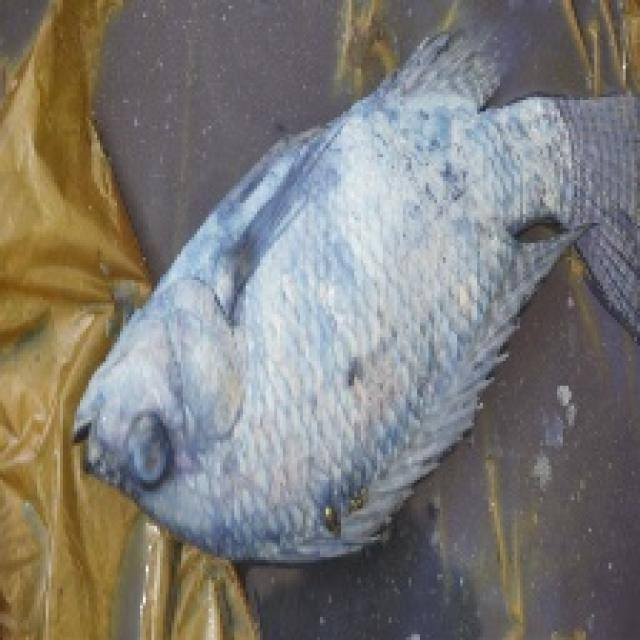Non-Fresh: (62, 96, 599, 562)
